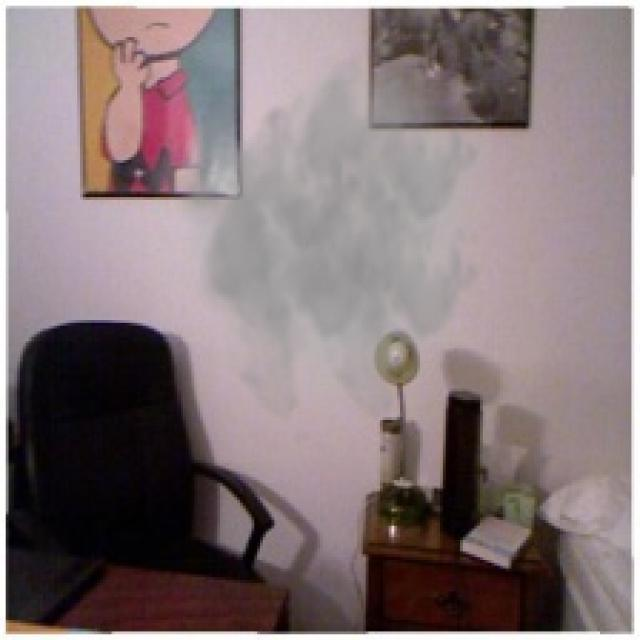Smoke: (148, 46, 492, 426)
